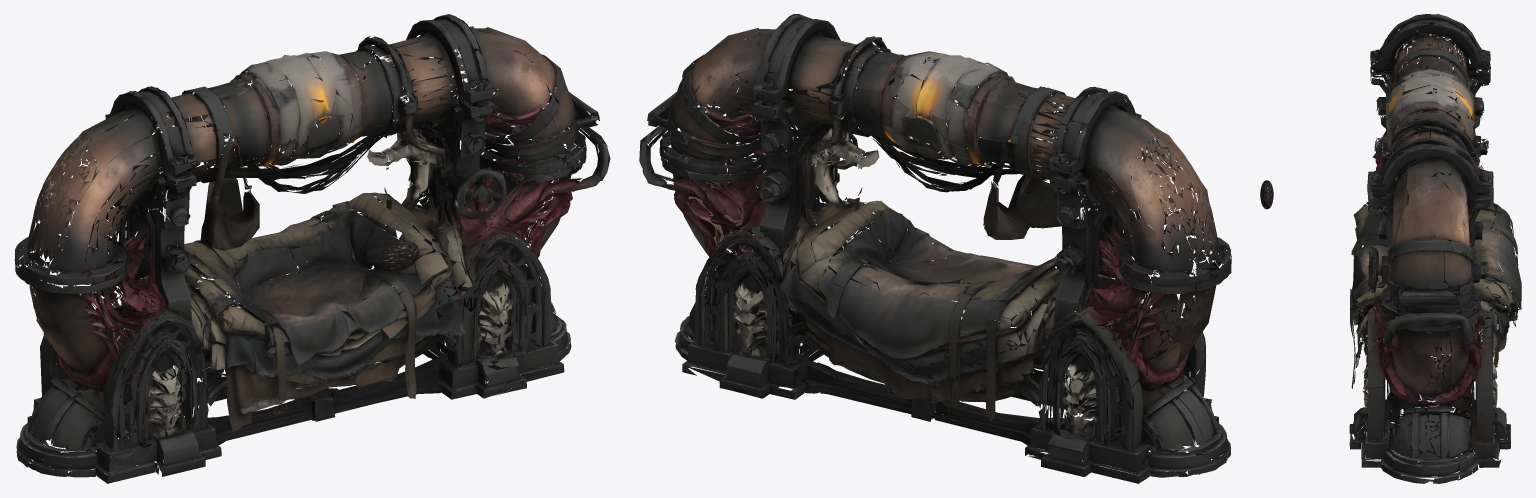
Rendered from martha_warm_pipe_return_nest.glb.
3 views of the same model, side by side, from view 1: azimuth 30°, elevation 25°; view 2: azimuth 150°, elevation 25°; view 3: azimuth 270°, elevation 25° (orthographic). The views are drawn at different scales.
Visible parts, largest first — view 1: node_0, HB_PULSE_00; view 2: node_0; view 3: node_0, HB_PULSE_00.
Boxes of the visible parts, <box> form: node_0: <box>14,14,610,483</box>; HB_PULSE_00: <box>380,240,419,271</box>; node_0: <box>639,14,1231,483</box>; node_0: <box>1349,14,1521,483</box>; HB_PULSE_00: <box>1260,180,1273,209</box>.
Bounding box in the file's own units: 1.04 × 0.6058 × 0.4884.
1 material, 1 textured.
